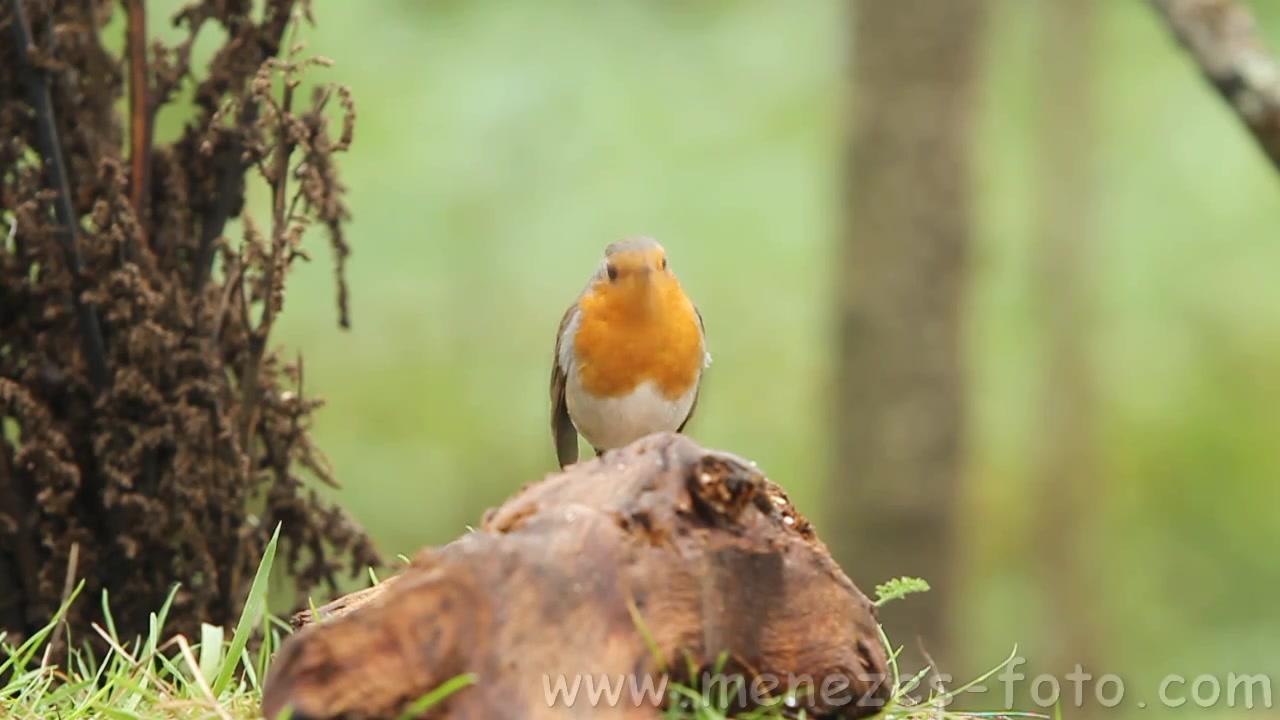bird: (550, 237, 709, 473)
